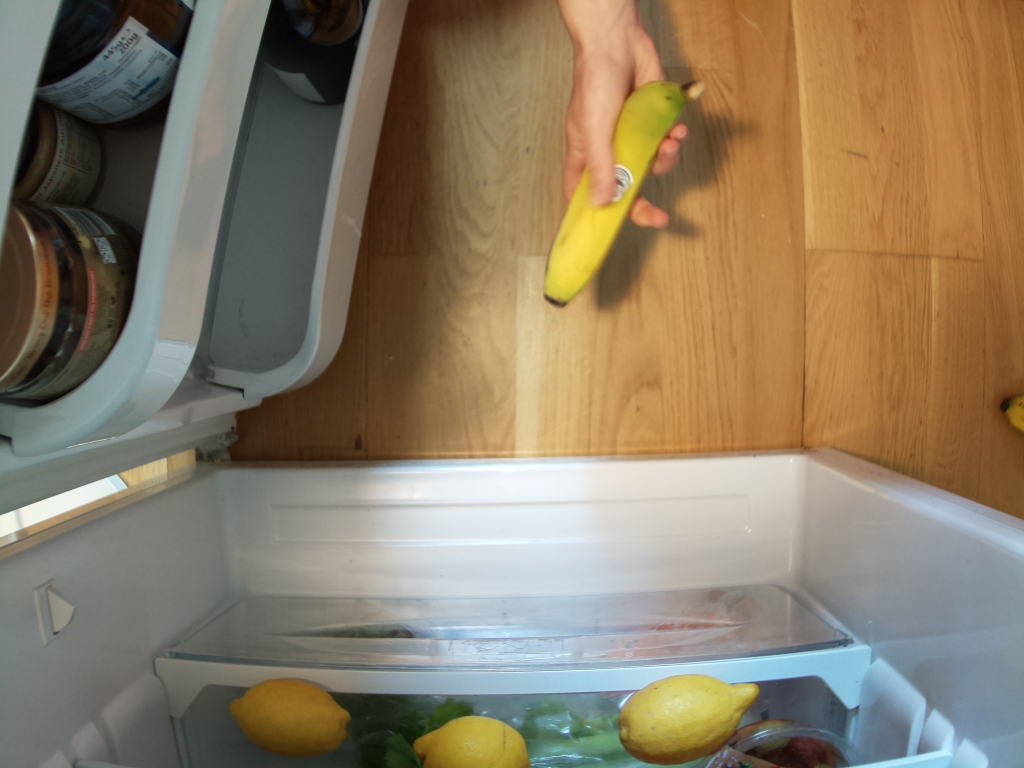banana-unripe: (540, 68, 705, 308)
